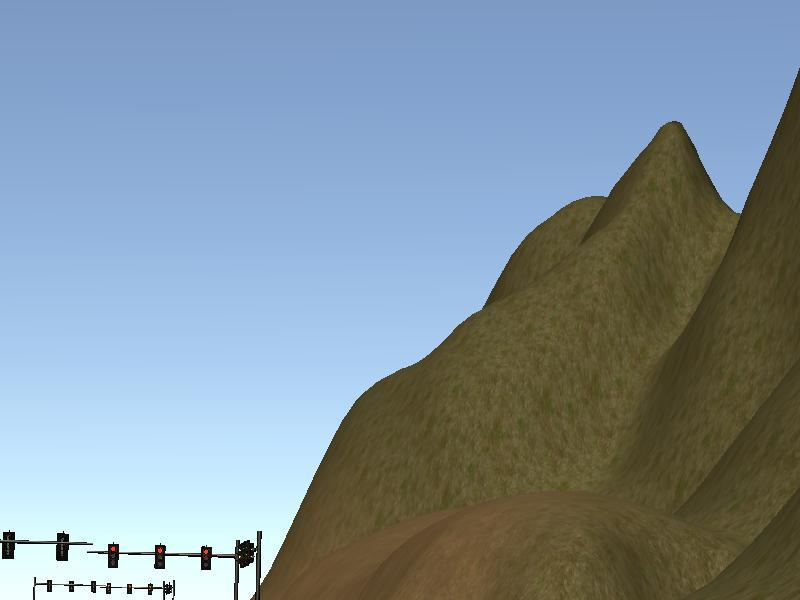Red: (107, 542, 118, 569), (200, 547, 211, 571), (155, 544, 164, 571)
